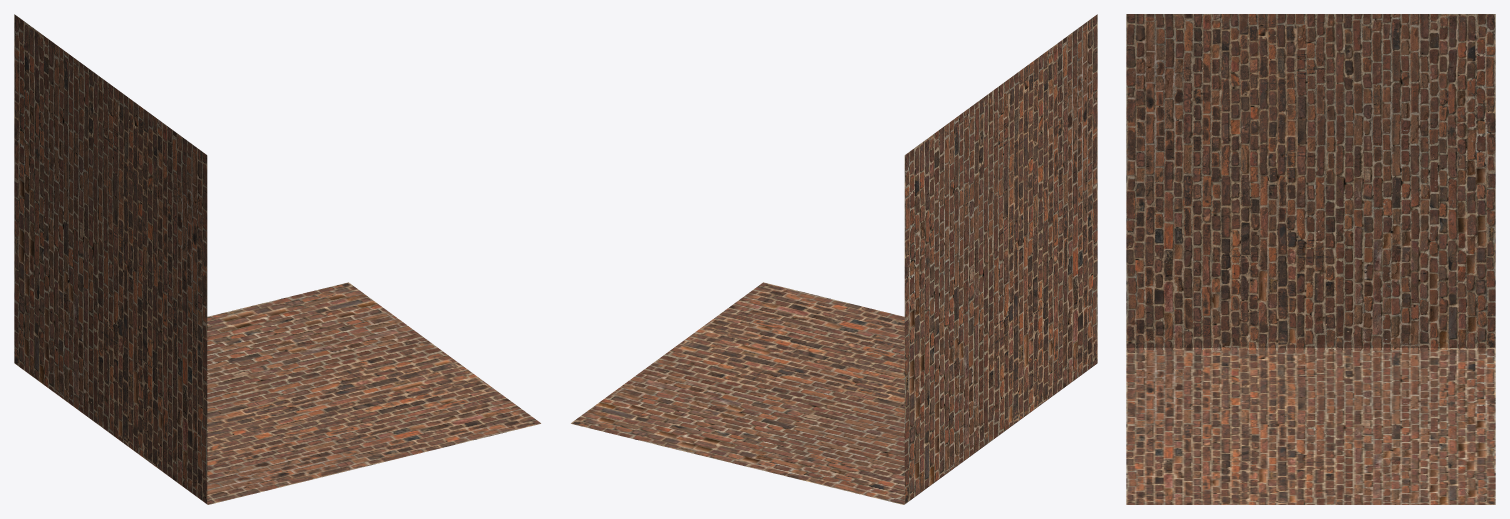
File: wall_standard_corner_large_01.gltf
3 views of the same model, side by side, from view 1: azimuth 30°, elevation 25°; view 2: azimuth 150°, elevation 25°; view 3: azimuth 270°, elevation 25° (orthographic). The views are drawn at different scales.
Parts seen in each view (by area): view 1: wall_standard_corner_large_01; view 2: wall_standard_corner_large_01; view 3: wall_standard_corner_large_01.
Boxes of the visible parts, x1,y1,x2,y2 form: wall_standard_corner_large_01: (14, 14, 540, 504); wall_standard_corner_large_01: (571, 14, 1097, 504); wall_standard_corner_large_01: (1126, 14, 1495, 504).
Bounding box in the file's own units: 3 × 3 × 3.
1 material, 1 textured.
